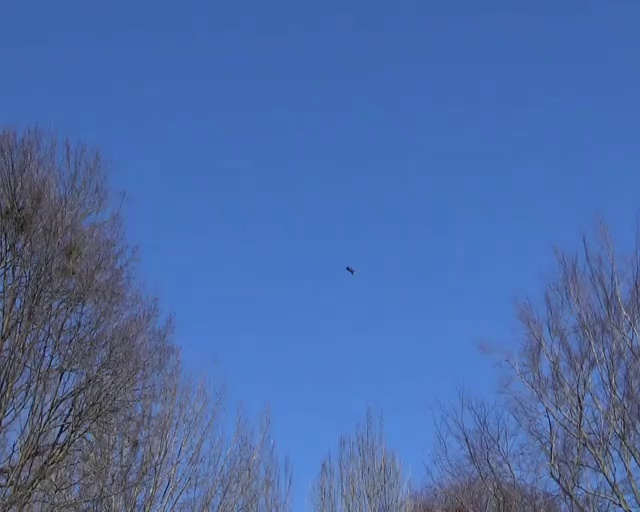BIRD: (346, 266, 355, 274)
